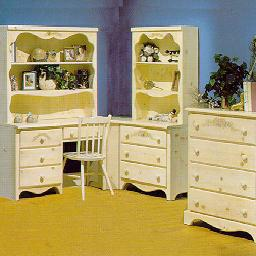Armario: (5, 24, 105, 194), (120, 25, 191, 190), (185, 106, 253, 238)
